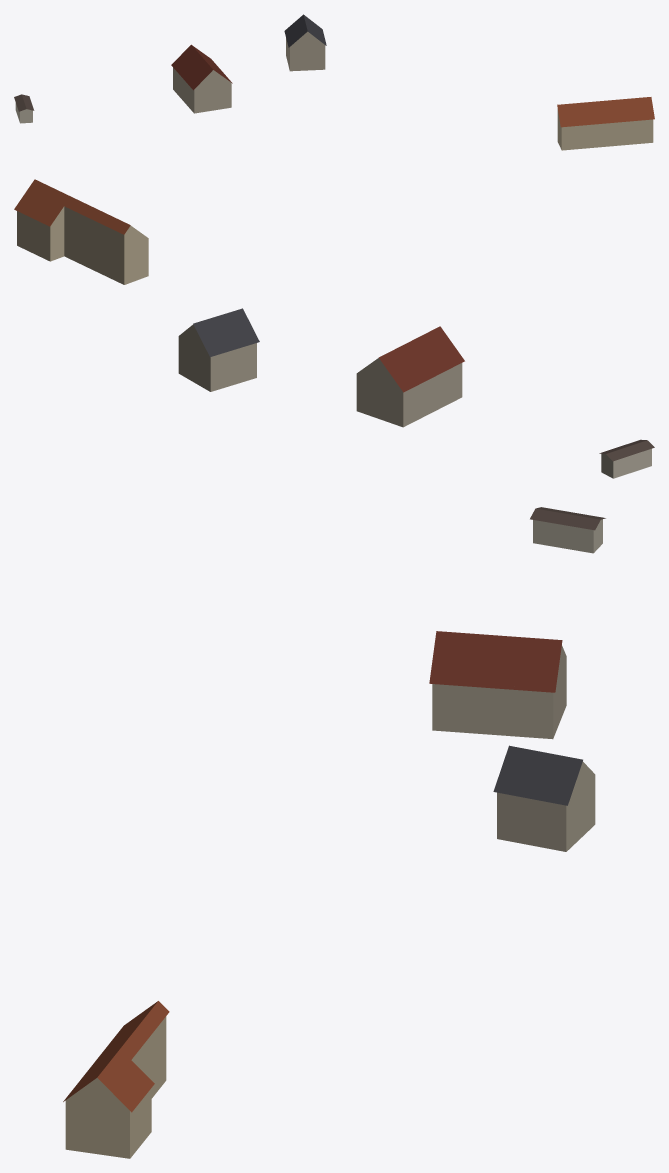
3 renders of one model, top to bottom at view 1: azimuth 30°, elevation 25°; view 2: azimuth 150°, elevation 25°; view 3: azimuth 270°, elevation 25°, orthographic. The views are drawn at different scales.
Visible parts, largest first — view 1: buildings; view 2: buildings; view 3: buildings.
Part boxes in pixels (x1=…): buildings: x1=14, y1=14, x2=654, y2=150; buildings: x1=14, y1=179, x2=654, y2=478; buildings: x1=63, y1=507, x2=605, y2=1158.
Bounding box in the file's own units: 135 × 21.95 × 60.25.
